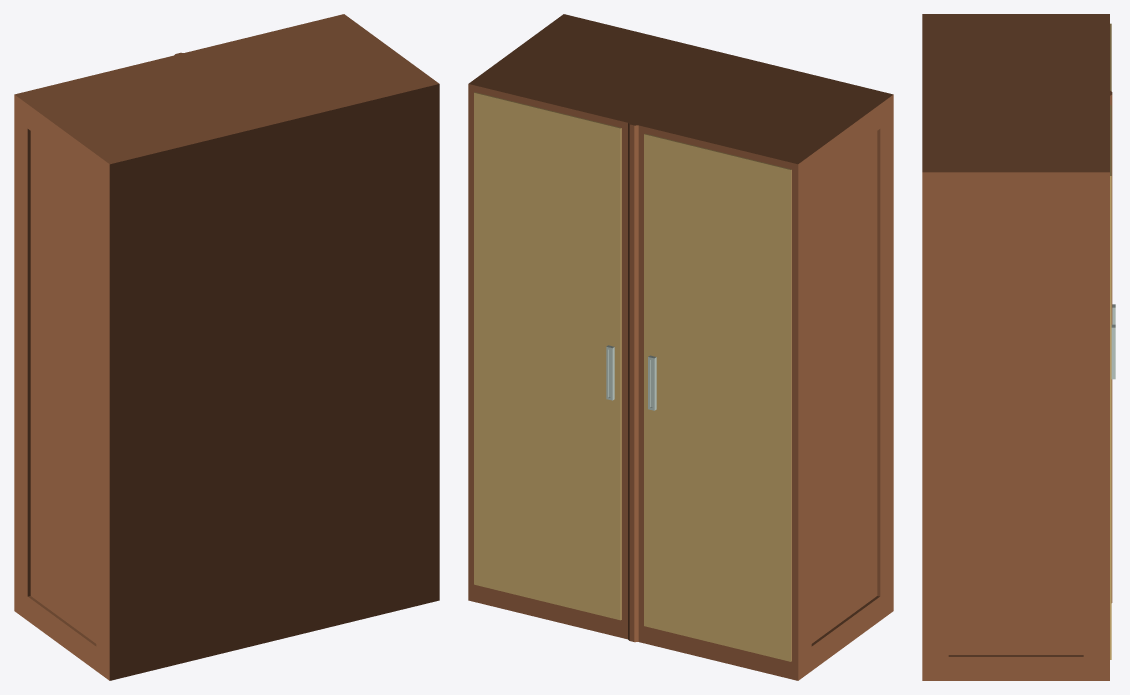
The model's file is Wardrobe 1.fbx.
3 views of the same model, side by side, from view 1: azimuth 30°, elevation 25°; view 2: azimuth 150°, elevation 25°; view 3: azimuth 270°, elevation 25° (orthographic).
Visible parts, largest first — view 1: Node 2; view 2: Node 2, Node 0, Node 1; view 3: Node 2, Node 0.
Part boxes in pixels (bbox=[...]): Node 2: bbox=[14, 14, 439, 680]; Node 2: bbox=[468, 14, 893, 680]; Node 0: bbox=[474, 92, 621, 620]; Node 1: bbox=[644, 133, 791, 661]; Node 2: bbox=[922, 14, 1112, 680]; Node 0: bbox=[1110, 105, 1115, 659].
Bounding box in the file's own units: 2.46 × 3.68 × 1.27.
